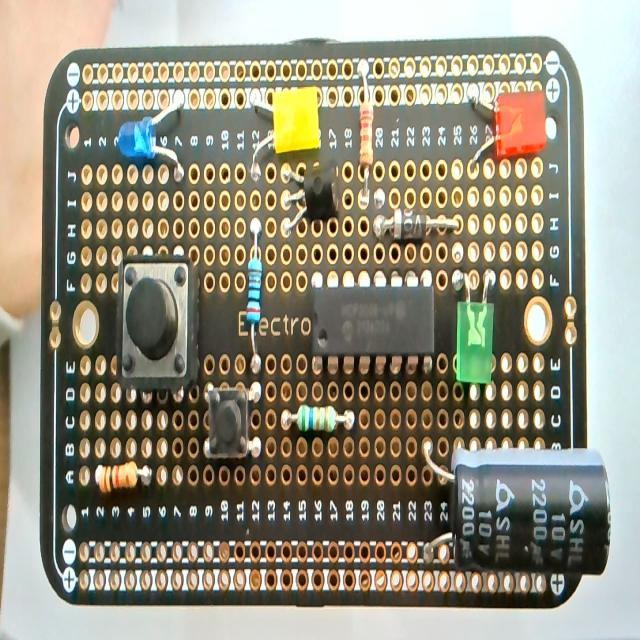Electrolytic capacitor: (416, 430, 612, 580)
IC: (306, 281, 438, 361)
diode: (369, 209, 461, 241)
led: (468, 86, 550, 170), (118, 92, 184, 179), (453, 267, 499, 391), (248, 86, 321, 164)
resistor: (245, 215, 268, 373), (281, 404, 353, 432), (357, 61, 374, 176), (95, 462, 148, 493)
switch: (114, 254, 198, 392), (206, 386, 264, 466)
transistor: (282, 166, 340, 236)
